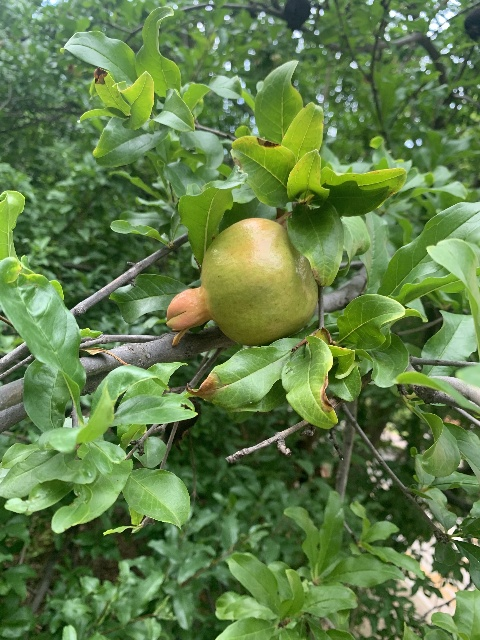mid-growth: (165, 216, 318, 350)
